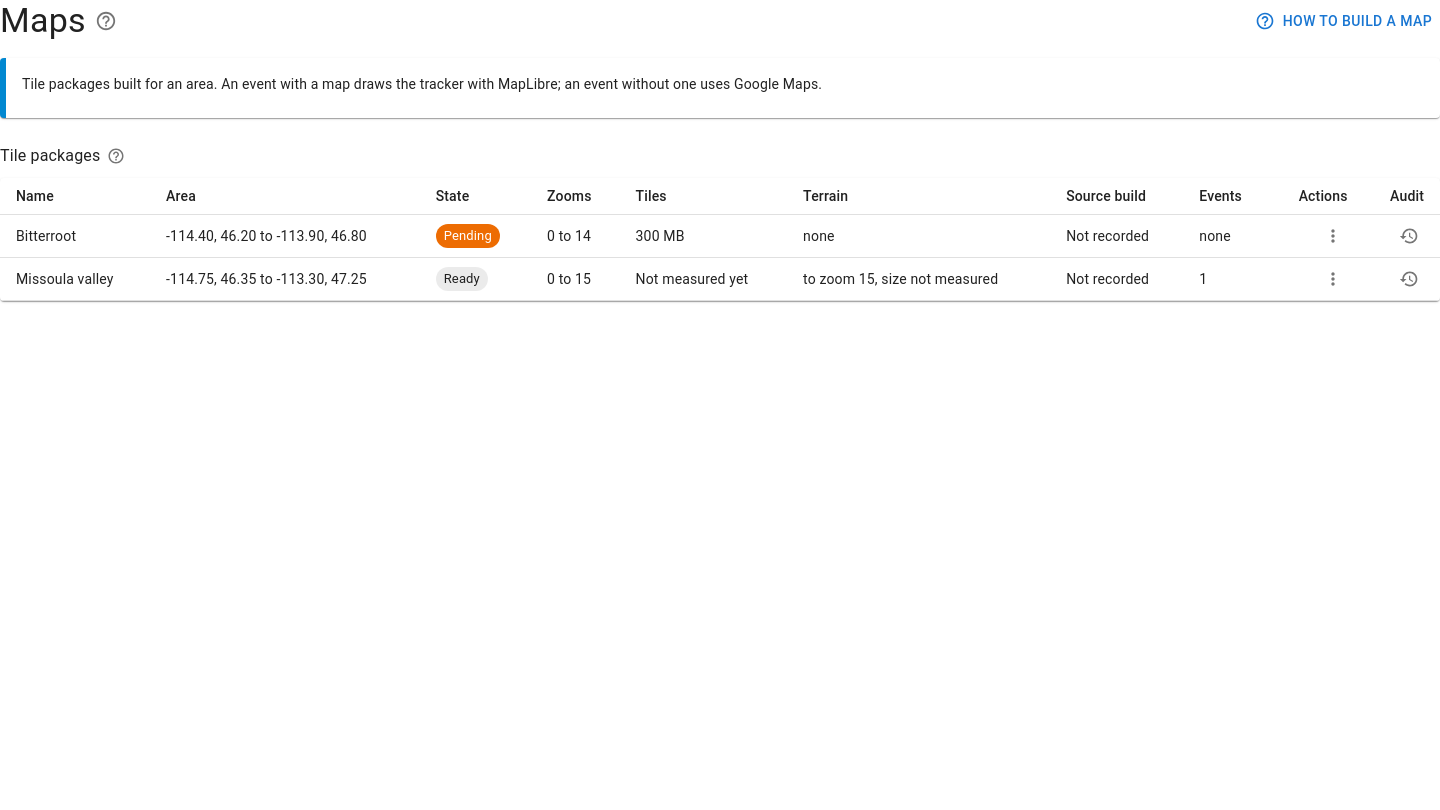
MapsList › Rename patches the name and toasts
Click the button named "Actions for Missoula valley".
click(1333, 279)  # box [1318,264,1348,294]
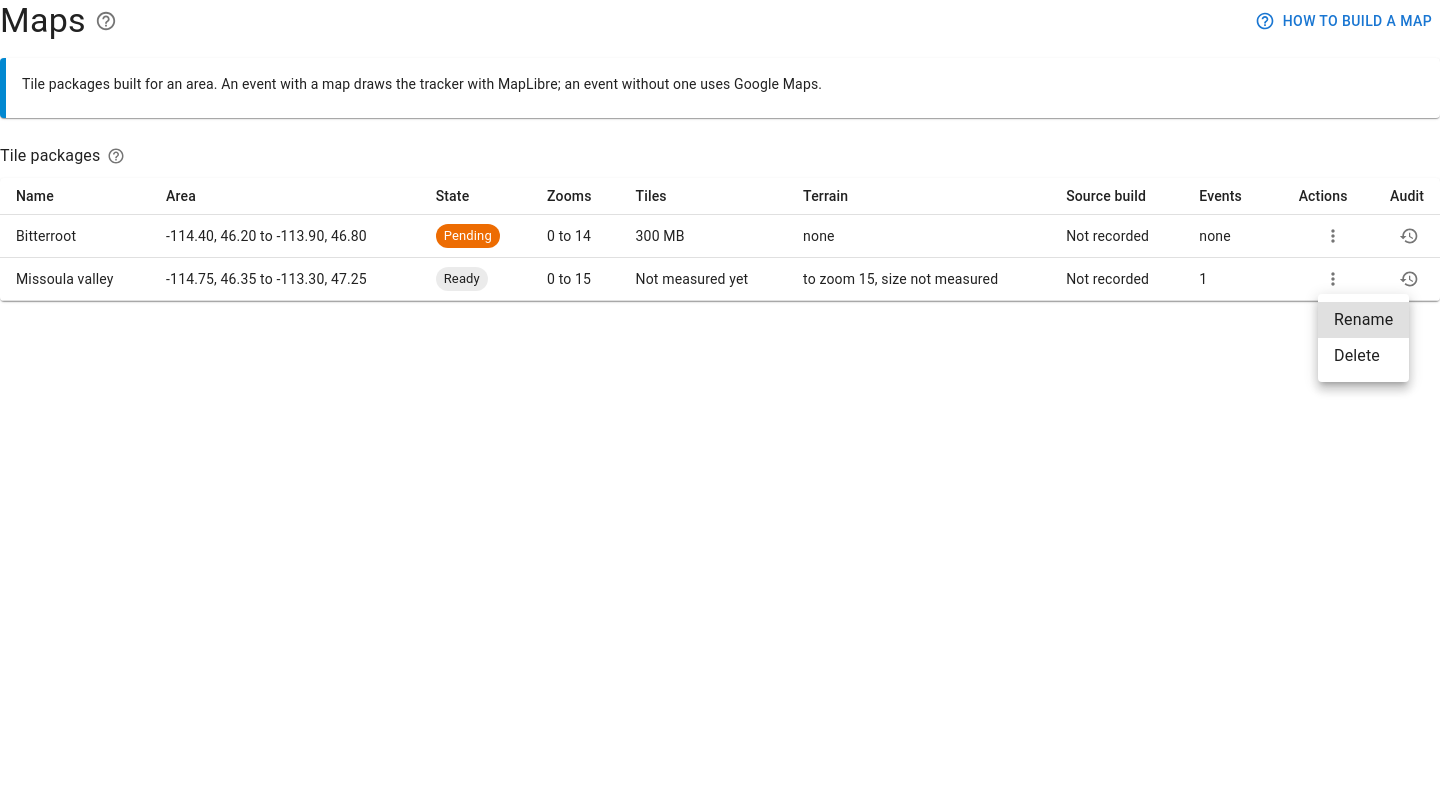
Click the menu item "Rename".
click(1364, 320)  # box [1318,302,1409,338]
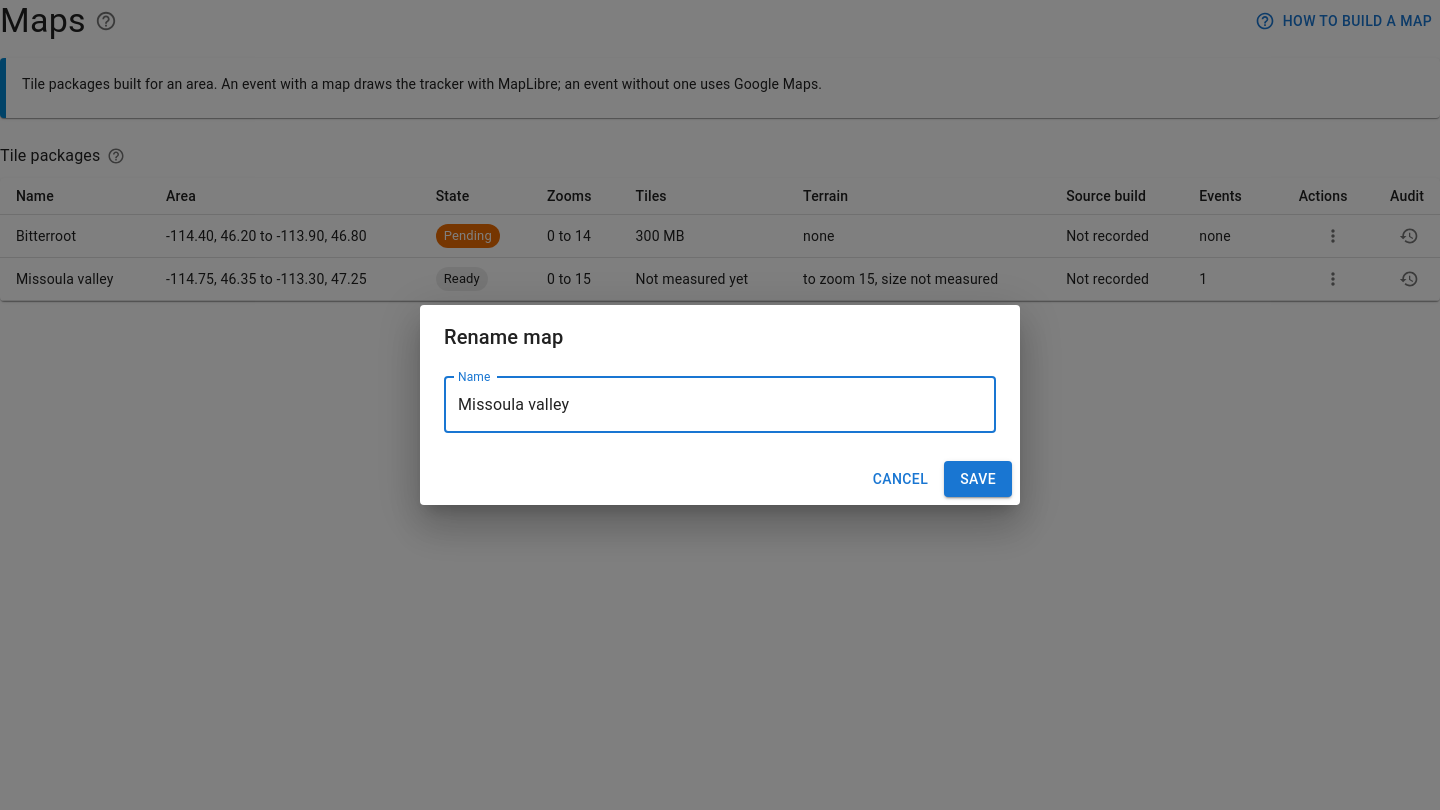
Check: the field labelled "Name" holds "Missoula valley"
Clear the field labelled "Name" at (720, 405), box [444,377,996,433]
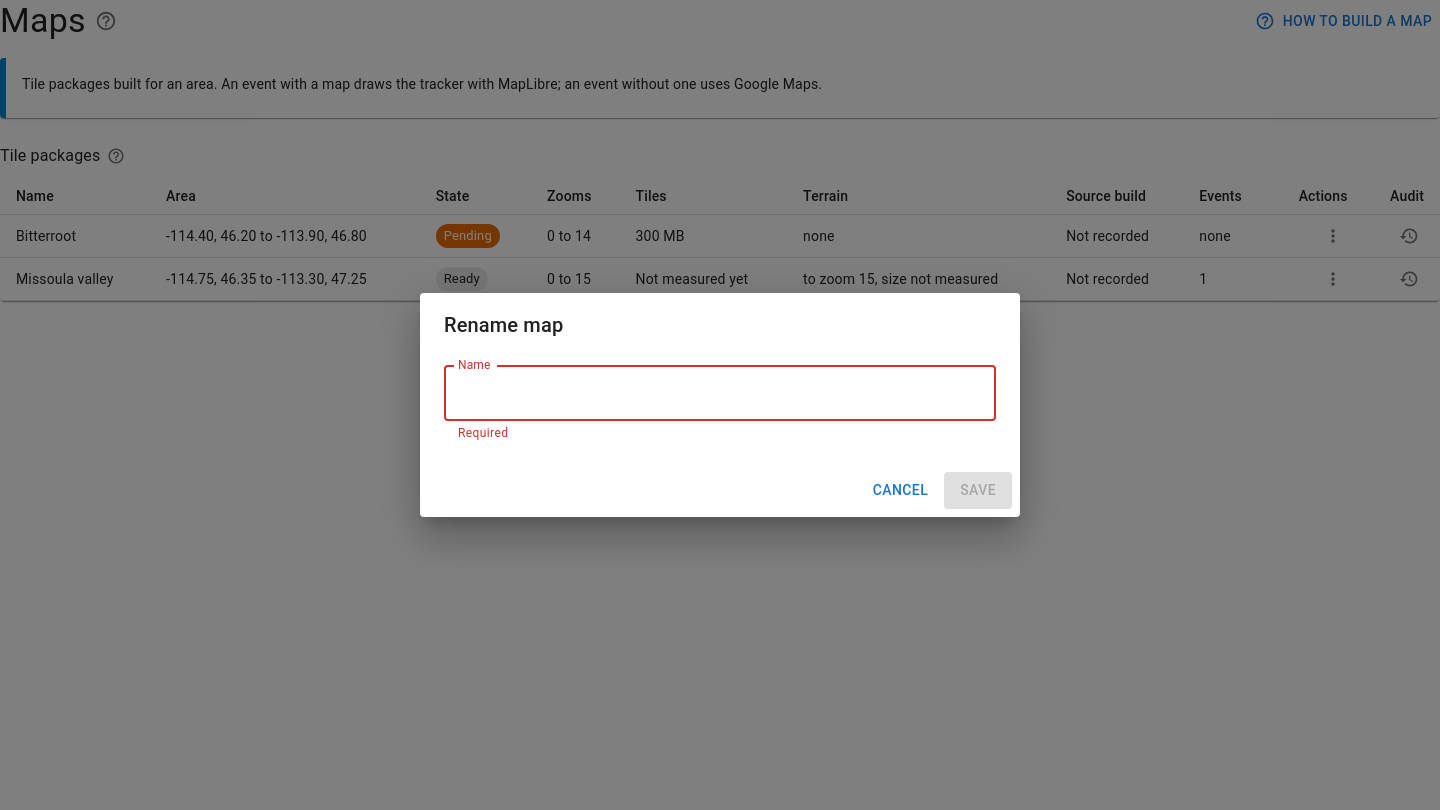
Type "Valley" into the field labelled "Name".
click(720, 393); type("Valley")  # box [444,365,996,421]
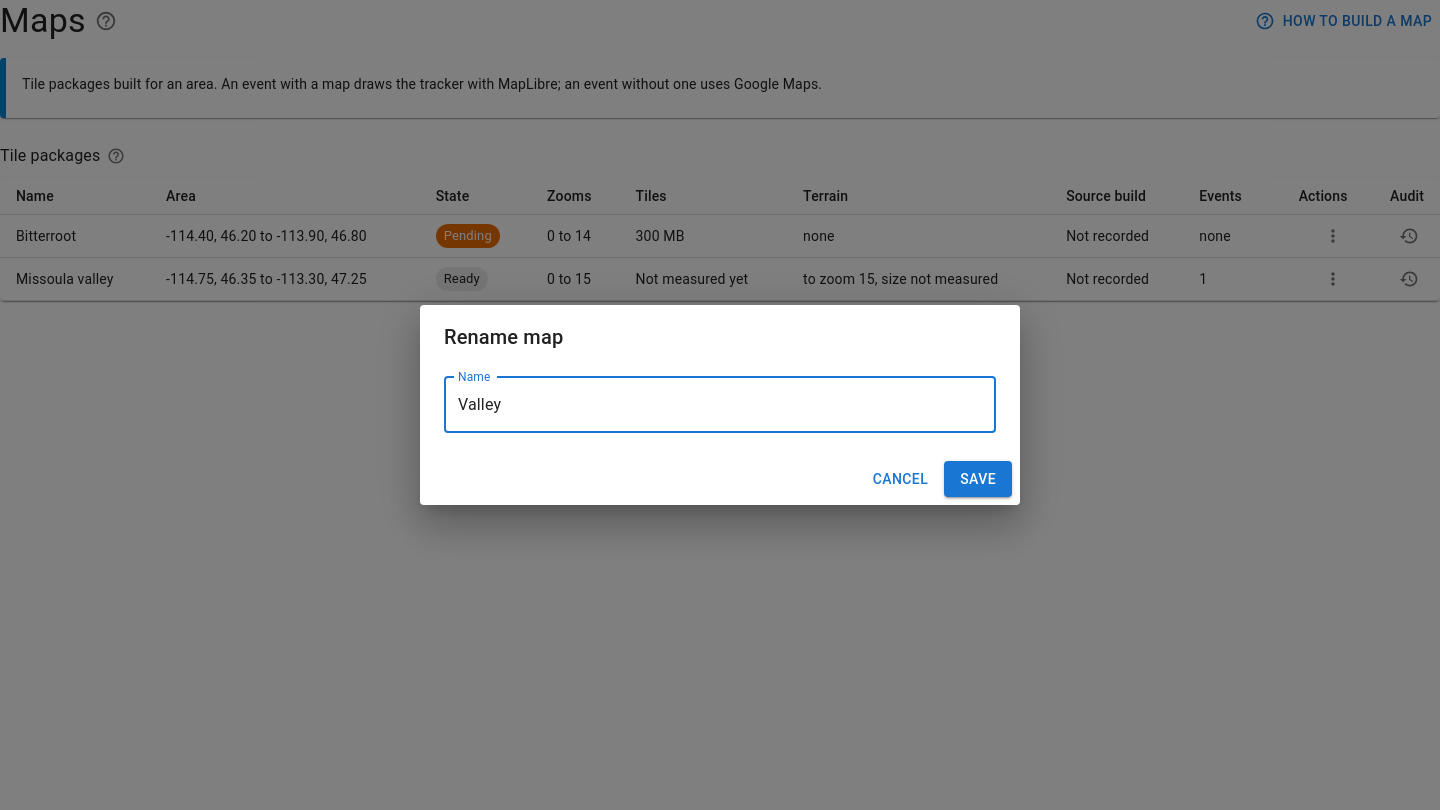
Click the button "Save".
click(978, 479)  # box [944,461,1012,497]
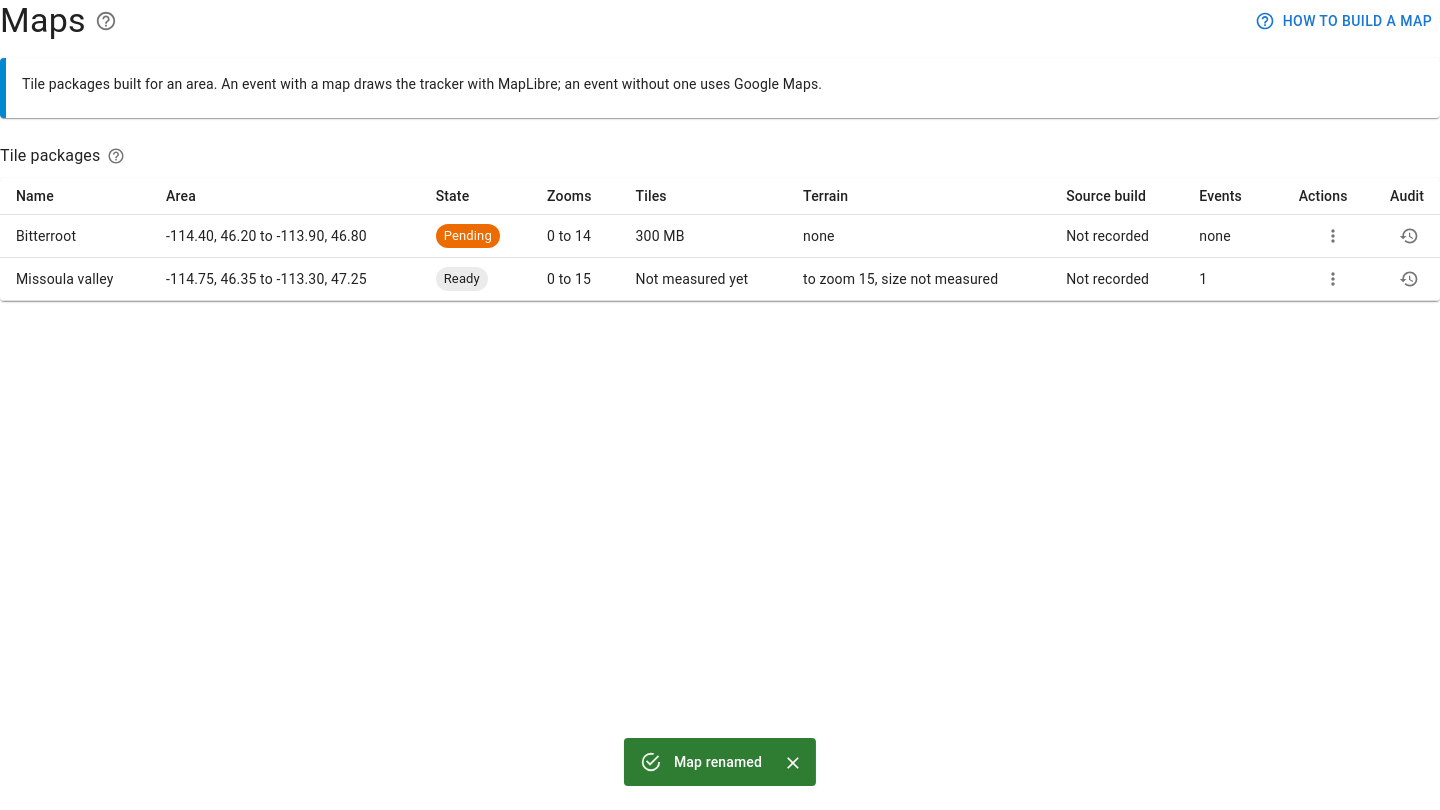
Check: the text "Map renamed" is shown, box [674,754,762,770]
